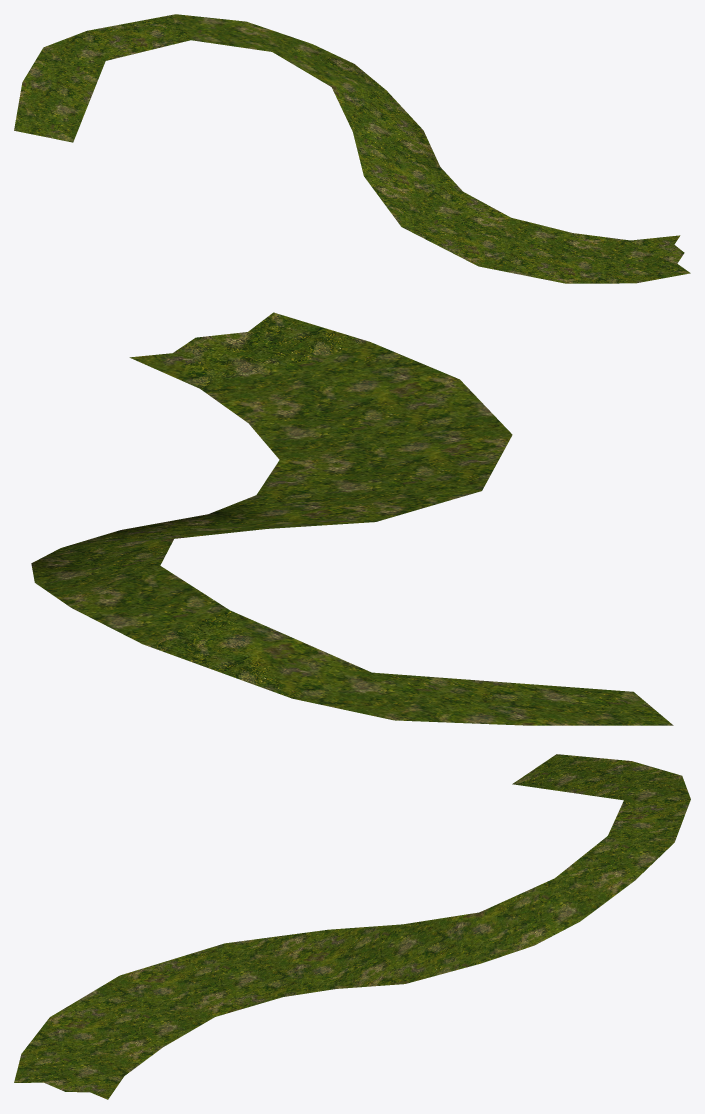
File: OVERHILL_A_01_LINE149.fbx
The picture shows the model from 3 angles, top to bottom: view 1: azimuth 30°, elevation 25°; view 2: azimuth 150°, elevation 25°; view 3: azimuth 270°, elevation 25°; orthographic projection. The views are drawn at different scales.
Visible parts, largest first — view 1: OVERHILL_A_01_LINE149; view 2: OVERHILL_A_01_LINE149; view 3: OVERHILL_A_01_LINE149.
Part boxes in pixels (x1,y1,x2,y2): OVERHILL_A_01_LINE149: [14, 14, 690, 283]; OVERHILL_A_01_LINE149: [31, 312, 673, 725]; OVERHILL_A_01_LINE149: [14, 754, 690, 1099].
Bounding box in the file's own units: 109260 × 22570 × 119930.
1 material, 1 textured.
